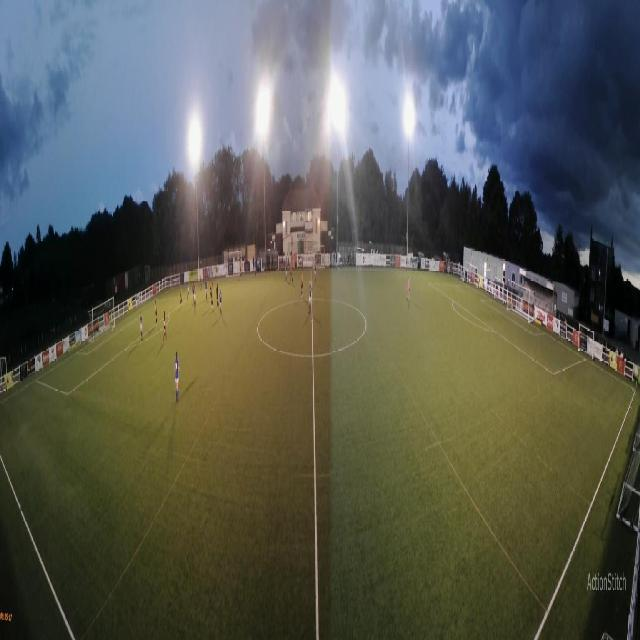player: (174, 351, 181, 403), (308, 279, 312, 315), (163, 311, 167, 341), (289, 261, 294, 285), (300, 271, 304, 299), (210, 282, 214, 309), (406, 276, 410, 303), (216, 282, 220, 308), (140, 311, 143, 341), (219, 288, 222, 316), (155, 300, 158, 326), (194, 283, 197, 308), (192, 279, 195, 303), (285, 260, 288, 284), (110, 309, 113, 331), (180, 284, 183, 305), (187, 279, 190, 300), (199, 270, 202, 289), (314, 259, 316, 286), (205, 279, 207, 301), (210, 277, 212, 297), (240, 259, 242, 279), (254, 259, 256, 276)
